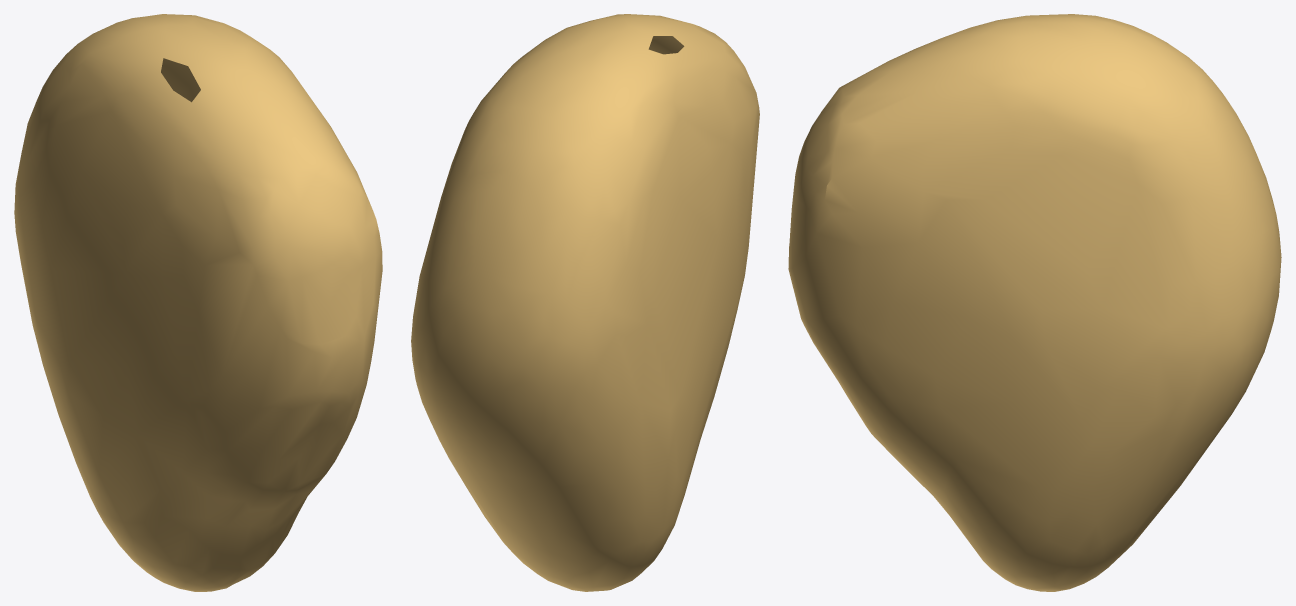
The model's file is nervoso-culmen.glb.
The picture shows the model from 3 angles, left to right: view 1: azimuth 30°, elevation 25°; view 2: azimuth 150°, elevation 25°; view 3: azimuth 270°, elevation 25°; orthographic projection.
Visible parts, largest first — view 1: Culmen; view 2: Culmen; view 3: Culmen.
Part boxes in pixels (x1,y1,x2,y2): Culmen: [14, 14, 382, 591]; Culmen: [411, 14, 759, 591]; Culmen: [788, 14, 1281, 591].
Bounding box in the file's own units: 0.0104 × 0.0239 × 0.0193.
